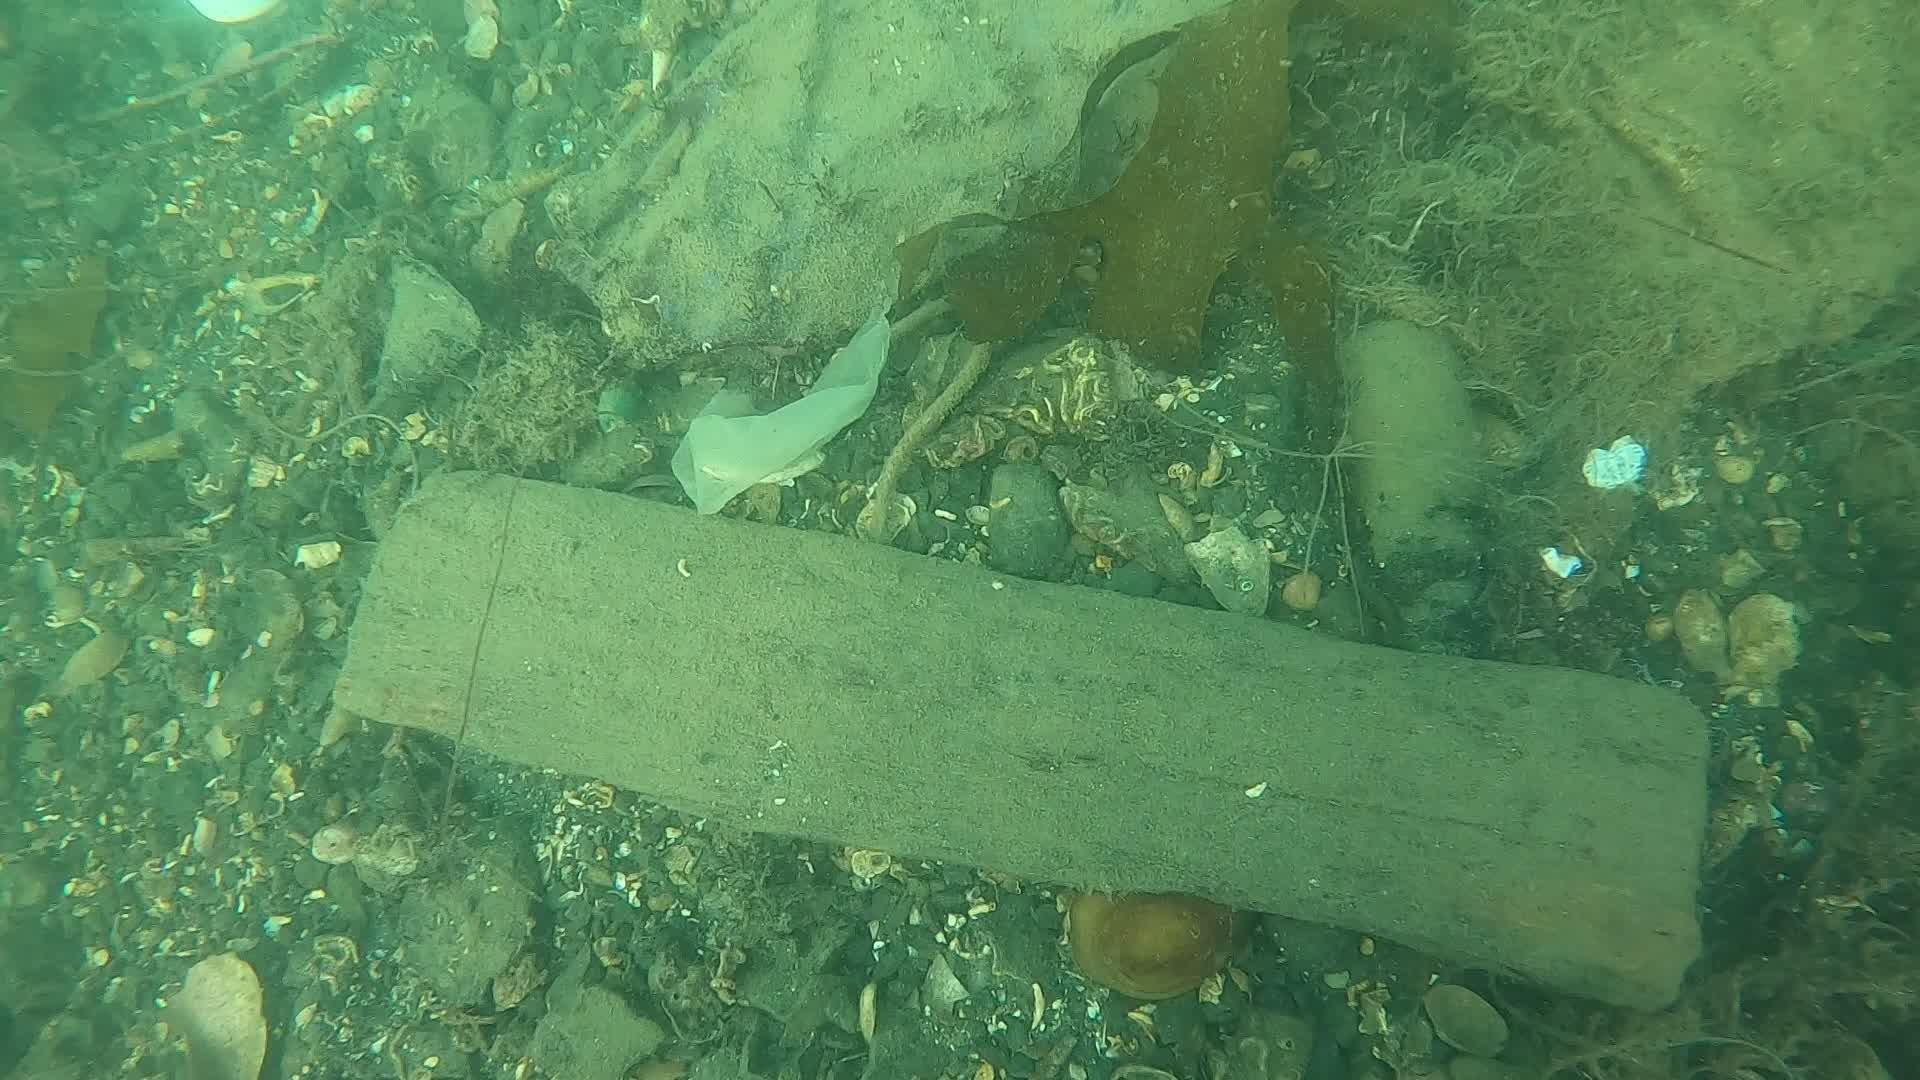wood: (334, 460, 1717, 1011)
